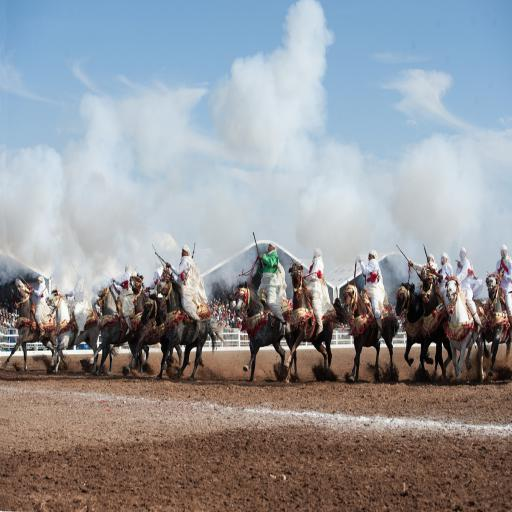horse: (0, 269, 223, 377), (285, 258, 348, 379), (233, 280, 299, 380), (342, 280, 401, 380), (445, 276, 487, 381), (392, 282, 444, 362), (476, 271, 511, 378), (419, 267, 448, 378)
